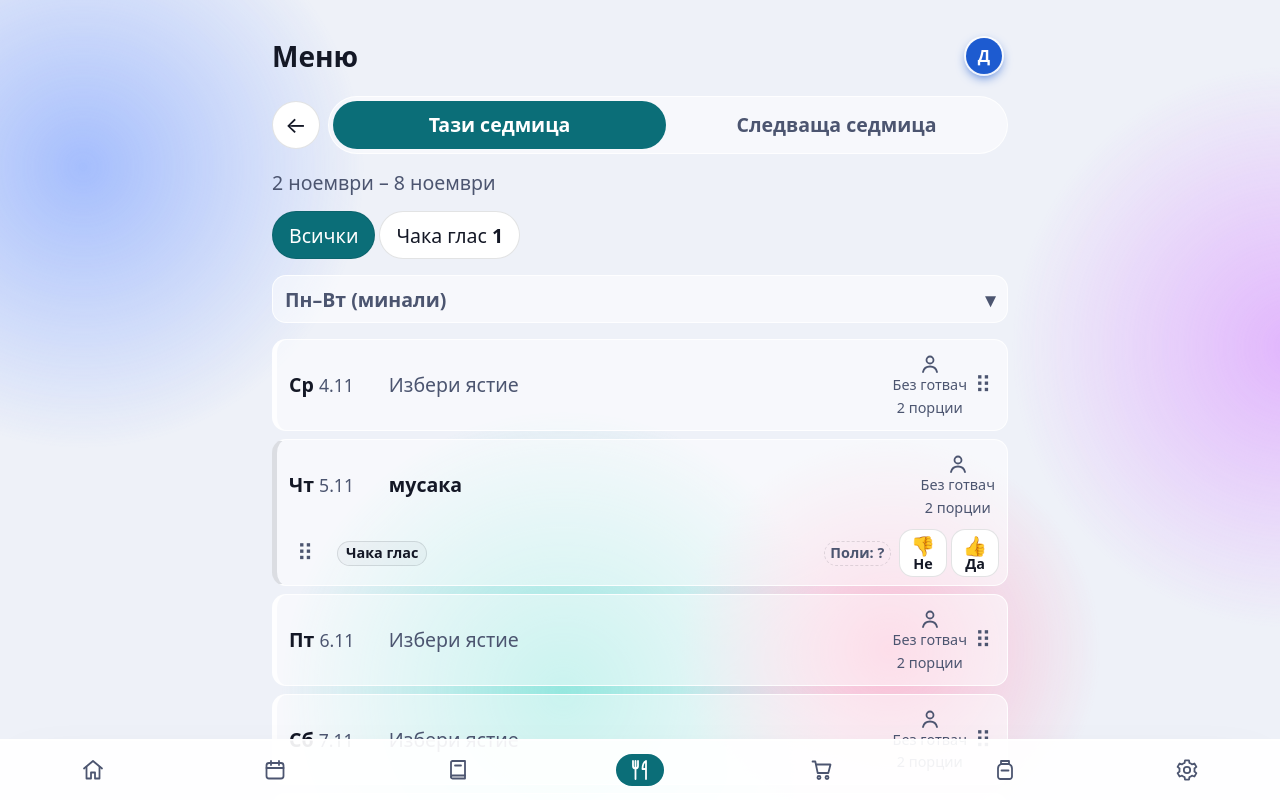
Scenario: MenuWeek › листът на ястието и „назад“ › лист, отворен с докосване: след „Готово“ „назад“ напуска менюто
Click the button "чт 5.11 мусака Без готвач 2 порции" at (337, 485), box [277,440,1007,529]
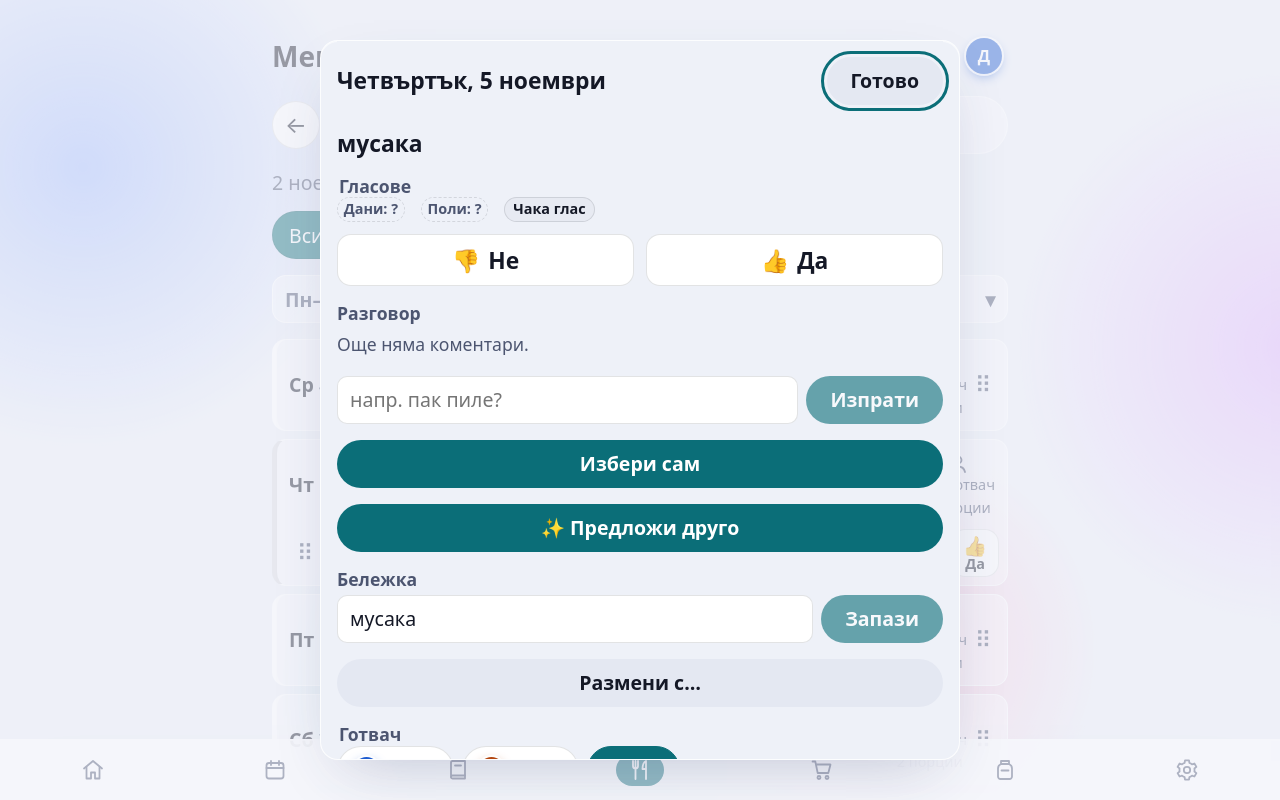
Click the button "Готово" at (885, 81), box [826,57,943,105]
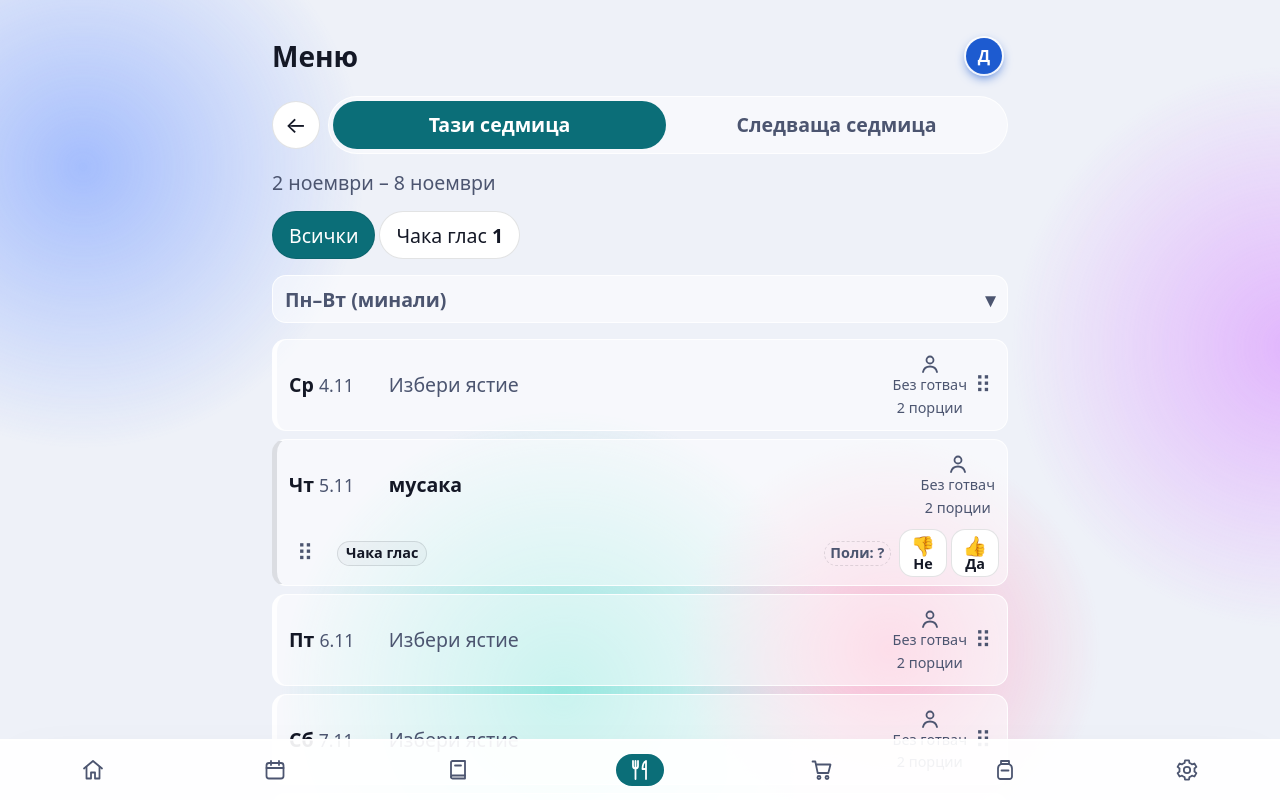
Check: the dialog is gone
